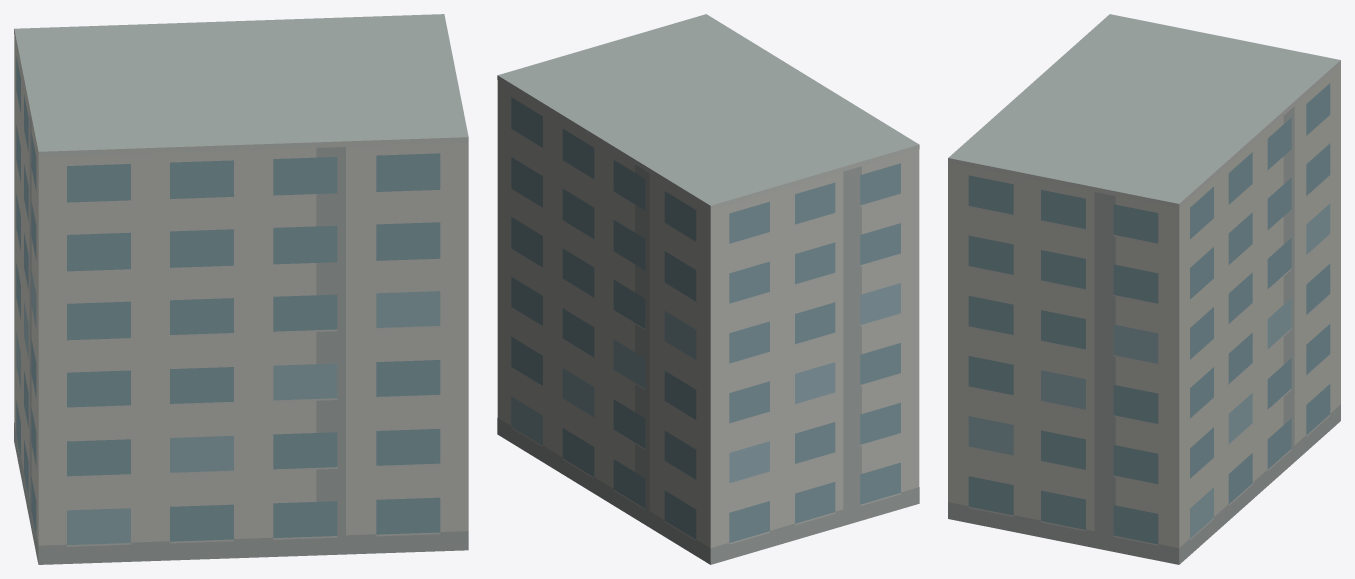
Rendered from survey-upis-32553332.glb.
3 views of the same model, side by side, from view 1: azimuth 30°, elevation 25°; view 2: azimuth 150°, elevation 25°; view 3: azimuth 270°, elevation 25° (orthographic). The views are drawn at different scales.
Visible parts, largest first — view 1: survey-upis-32553332.tmp; view 2: survey-upis-32553332.tmp; view 3: survey-upis-32553332.tmp.
Part boxes in pixels (x1=…): survey-upis-32553332.tmp: x1=14, y1=14, x2=468, y2=564; survey-upis-32553332.tmp: x1=497, y1=14, x2=919, y2=564; survey-upis-32553332.tmp: x1=948, y1=14, x2=1340, y2=564.
Size of the model in its own units: 20.67 by 18.3 by 18.06.
